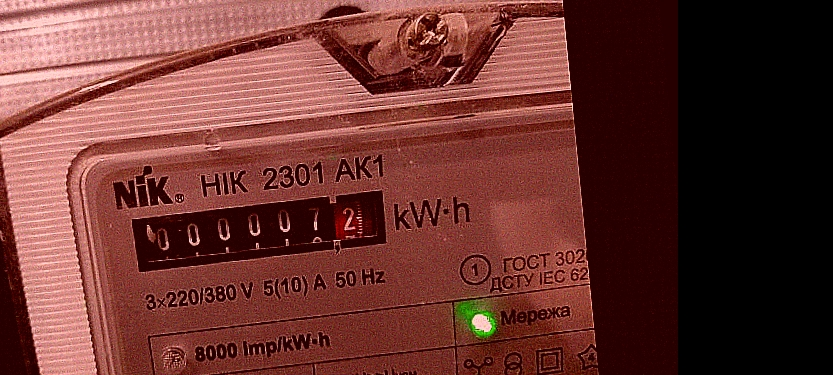0: (213, 214, 234, 242), (183, 219, 203, 248), (153, 223, 172, 252), (274, 205, 293, 234), (245, 209, 262, 237)
2: (340, 203, 358, 233)
7: (304, 203, 323, 233)
screen: (122, 180, 400, 278)
